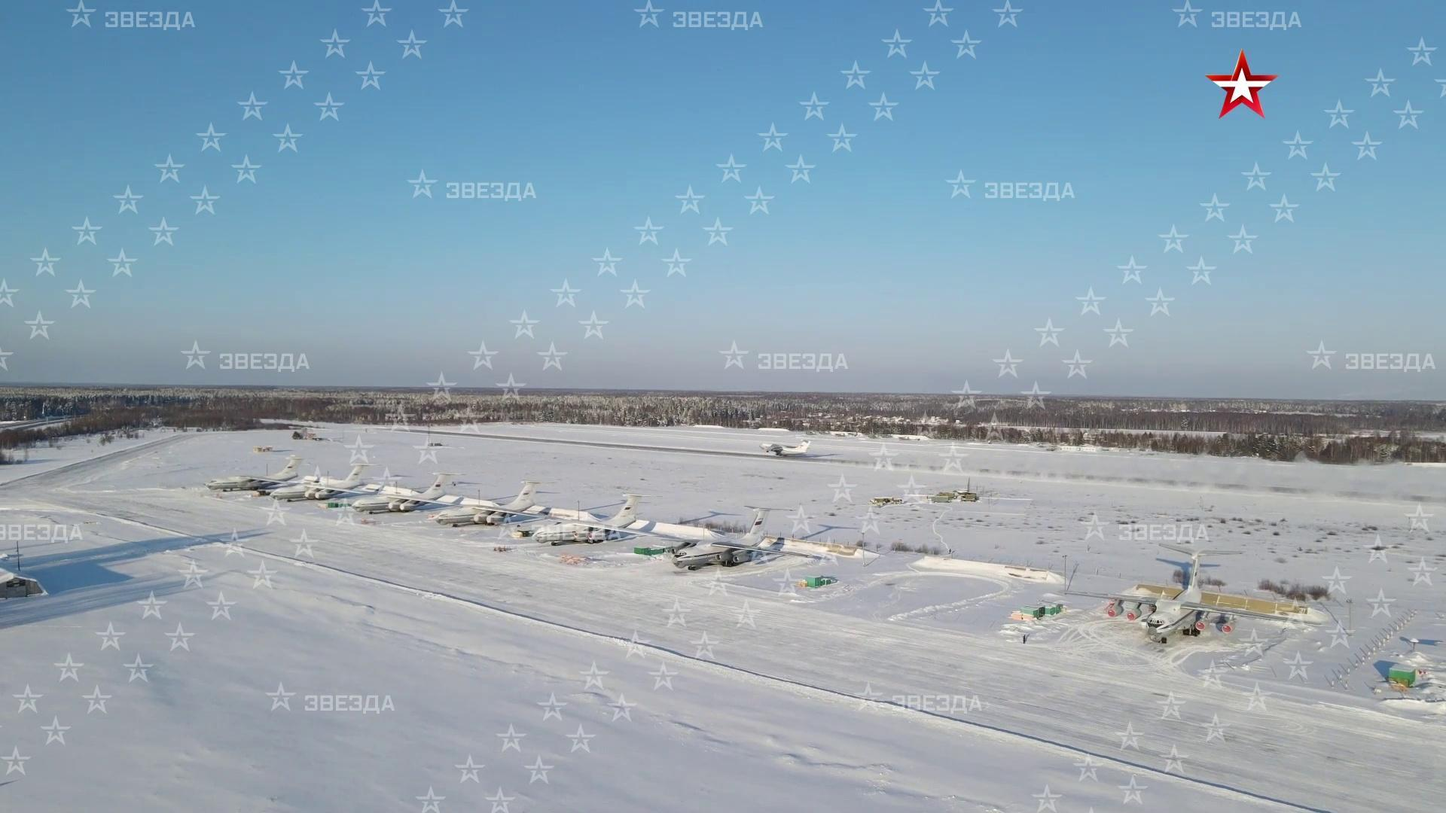plane: (1060, 541, 1325, 641), (654, 504, 822, 571), (528, 492, 654, 545), (435, 480, 544, 528), (351, 470, 461, 516), (270, 461, 380, 505), (204, 455, 307, 494), (759, 438, 813, 457)
